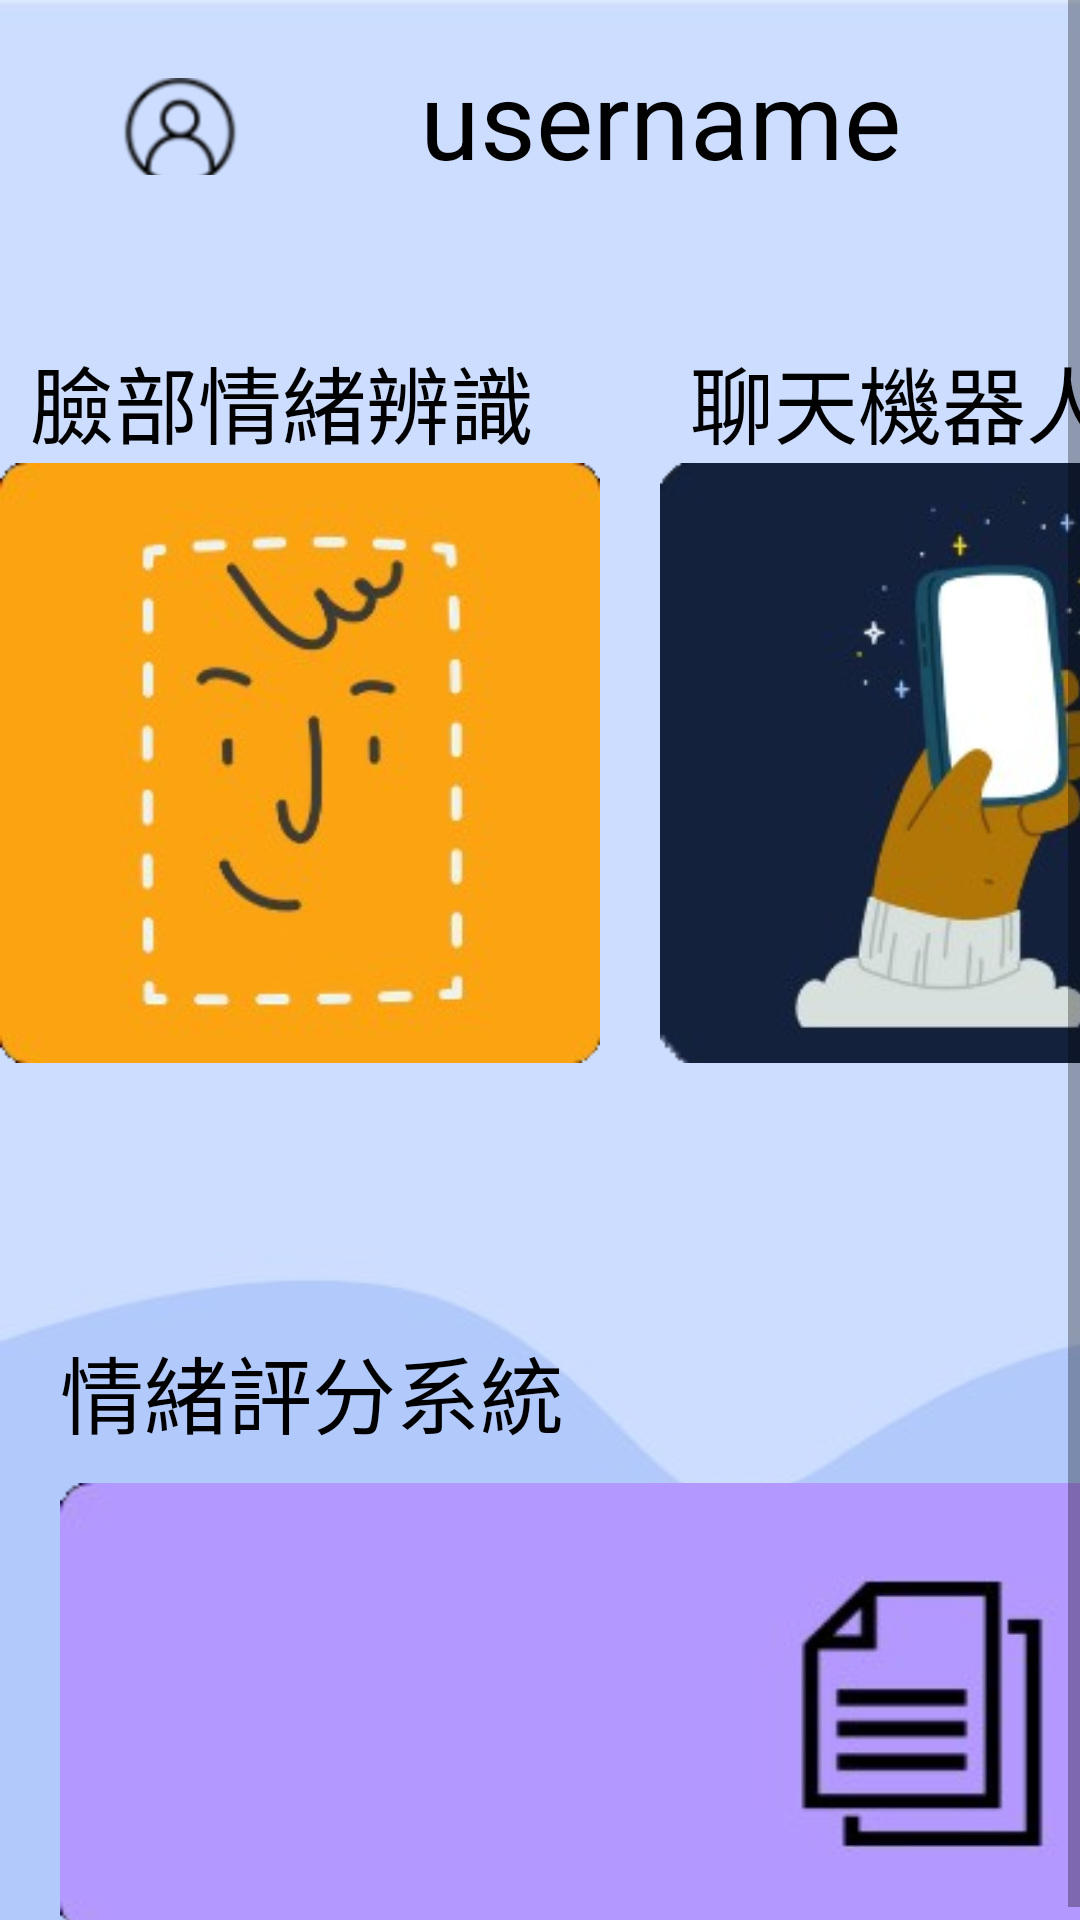

Where to tap for icons on this 1080×1920 app screen, as (x=x, y=y):
usericon: (x=180, y=126)
